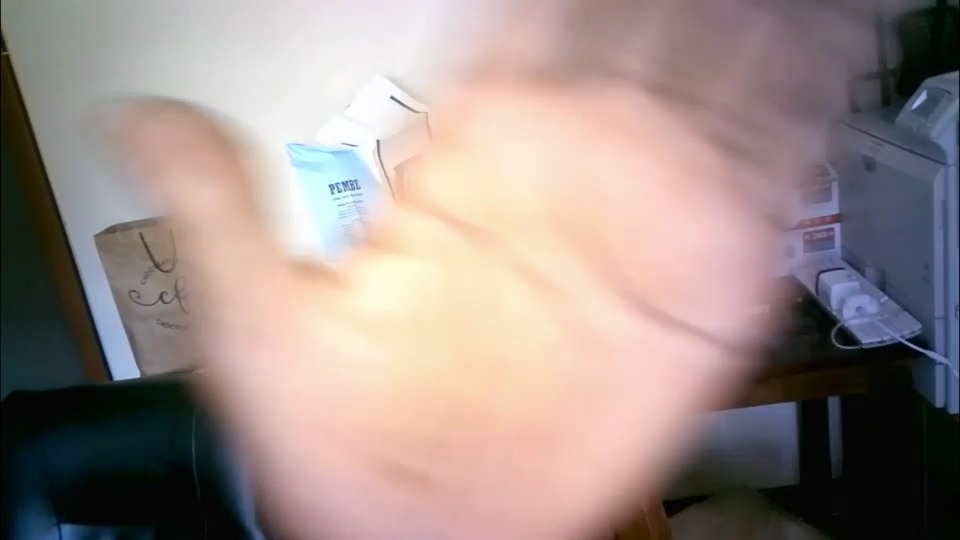wheat_flour_blue_label: (284, 75, 432, 241)
